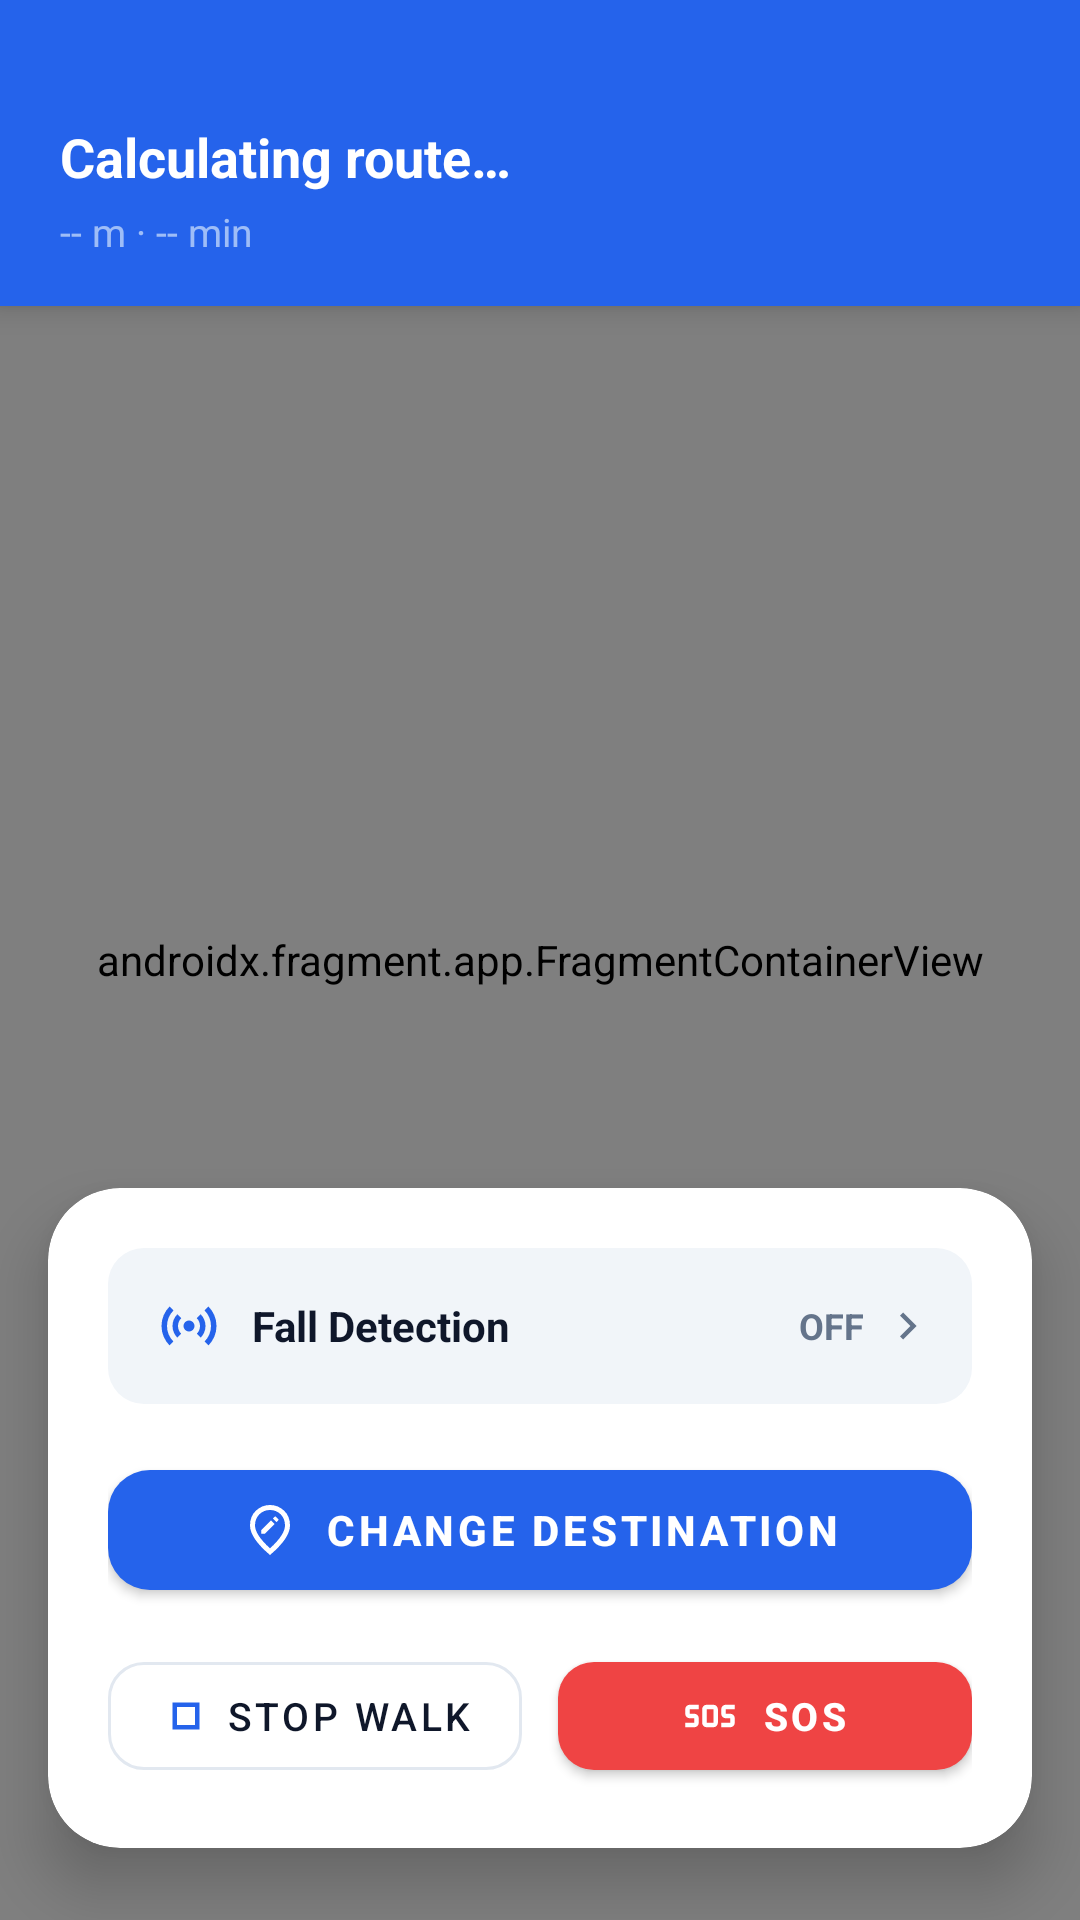

Named icons in this screenshot (1080w x 1920h) and their centers, [x,y]:
Go to sensors: [908,1326]
